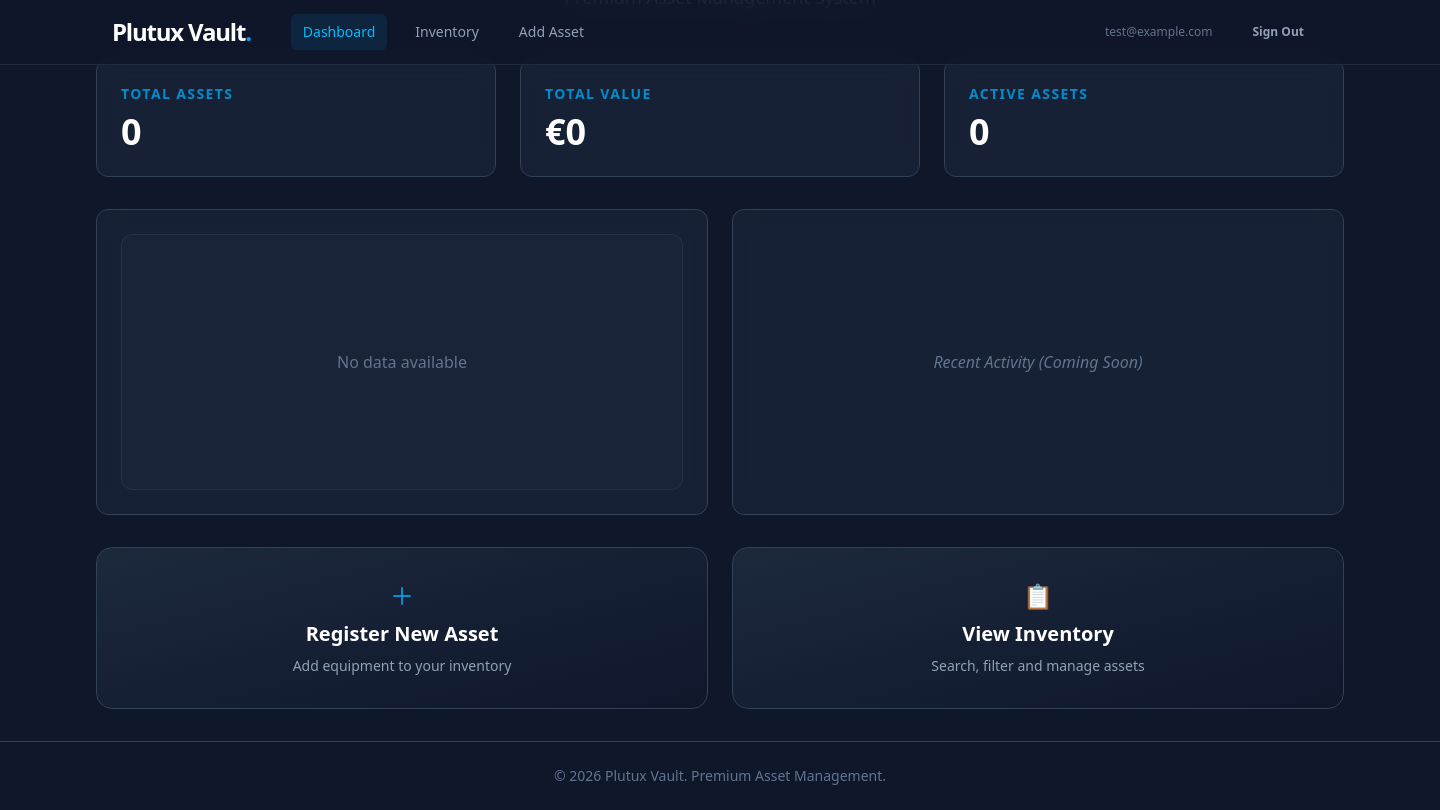
Test: App Integration › navigates to the add asset page
(page scrolled)
Note: Click 'Register New Asset' link
Click the link "＋ Register New Asset Add equipment to your inventory" at (402, 628), box [96,547,708,709]
(page scrolled)
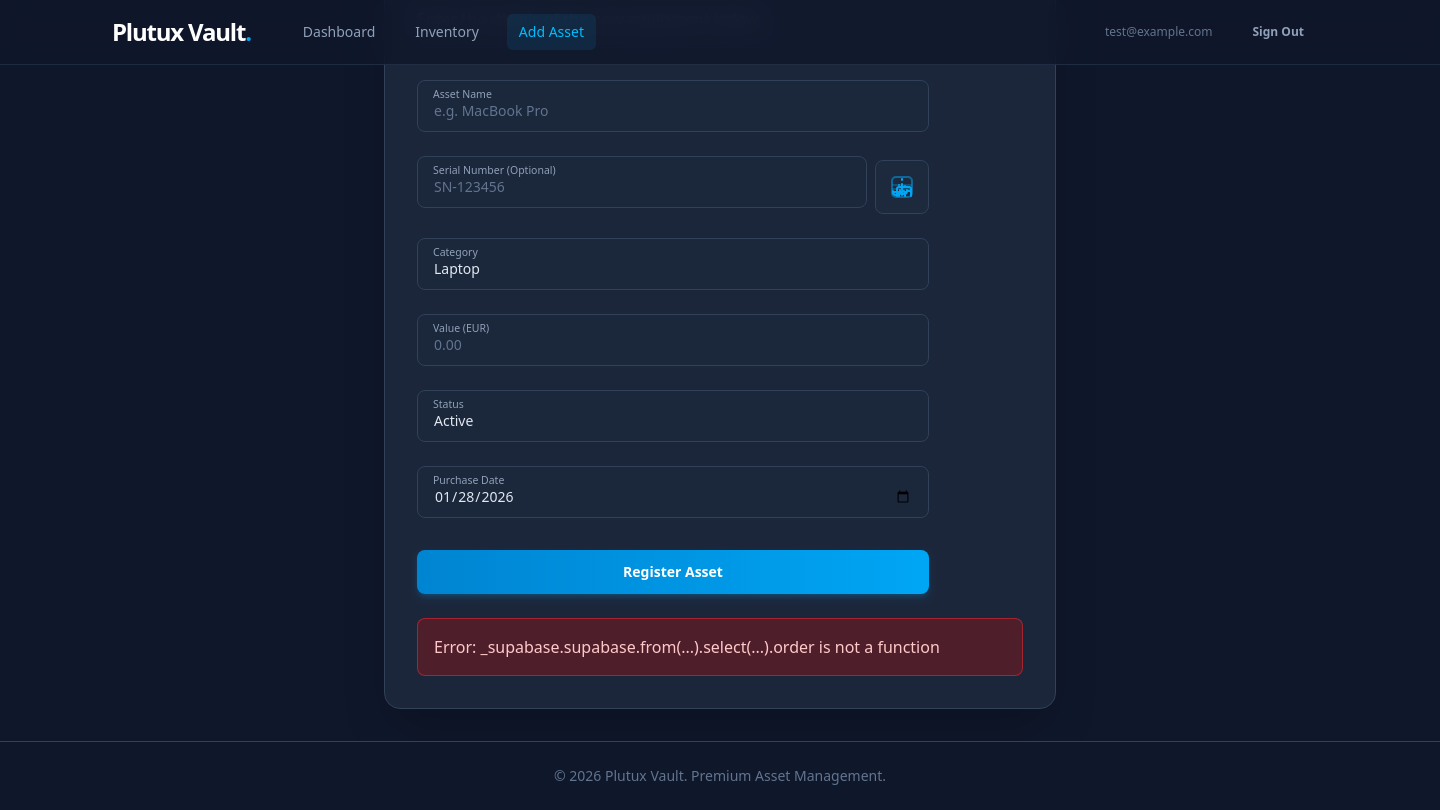
Expected: the field labelled "Asset Name" is shown, [417,80,929,132]
